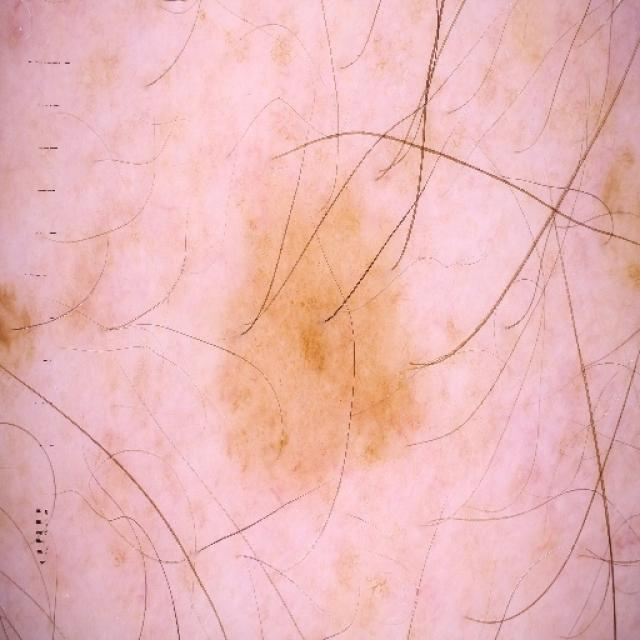Melanoma: (221, 112, 530, 470)
